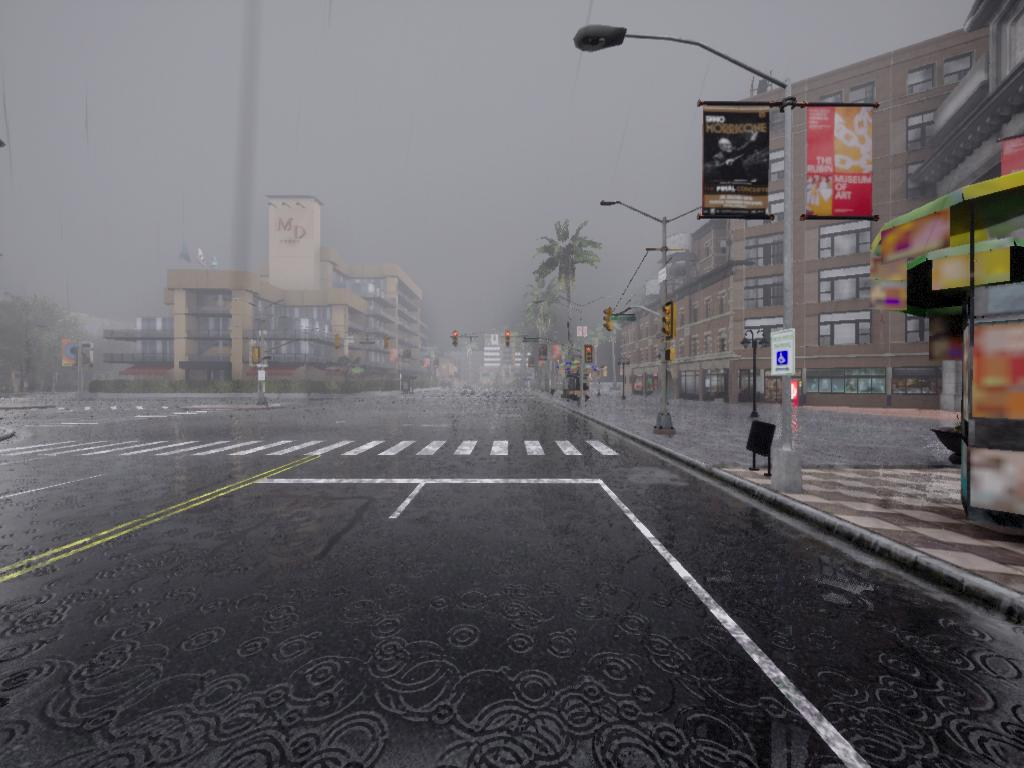traffic_light: (663, 303, 678, 341), (603, 310, 615, 332), (664, 347, 676, 363), (586, 348, 596, 365), (254, 346, 261, 366), (504, 331, 512, 348), (384, 336, 391, 354), (452, 331, 460, 346), (455, 332, 463, 347), (335, 334, 341, 351)
